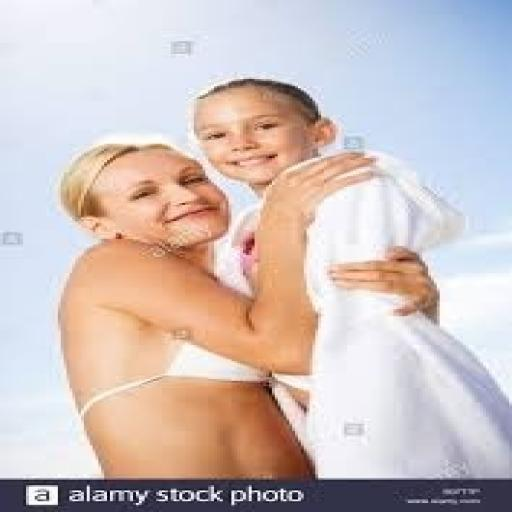hugging: (52, 76, 509, 480)
